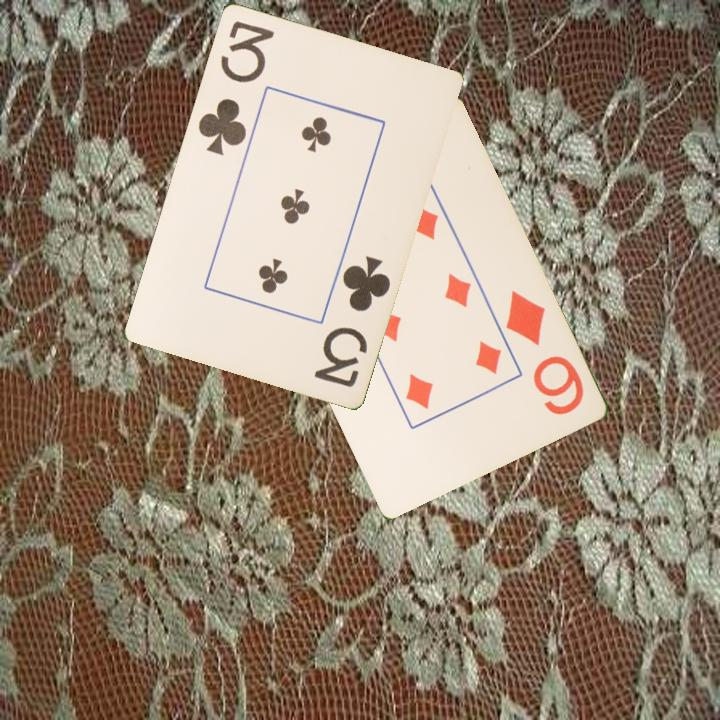3c: (194, 16, 277, 158), (310, 251, 394, 390)
6d: (501, 286, 586, 418)
